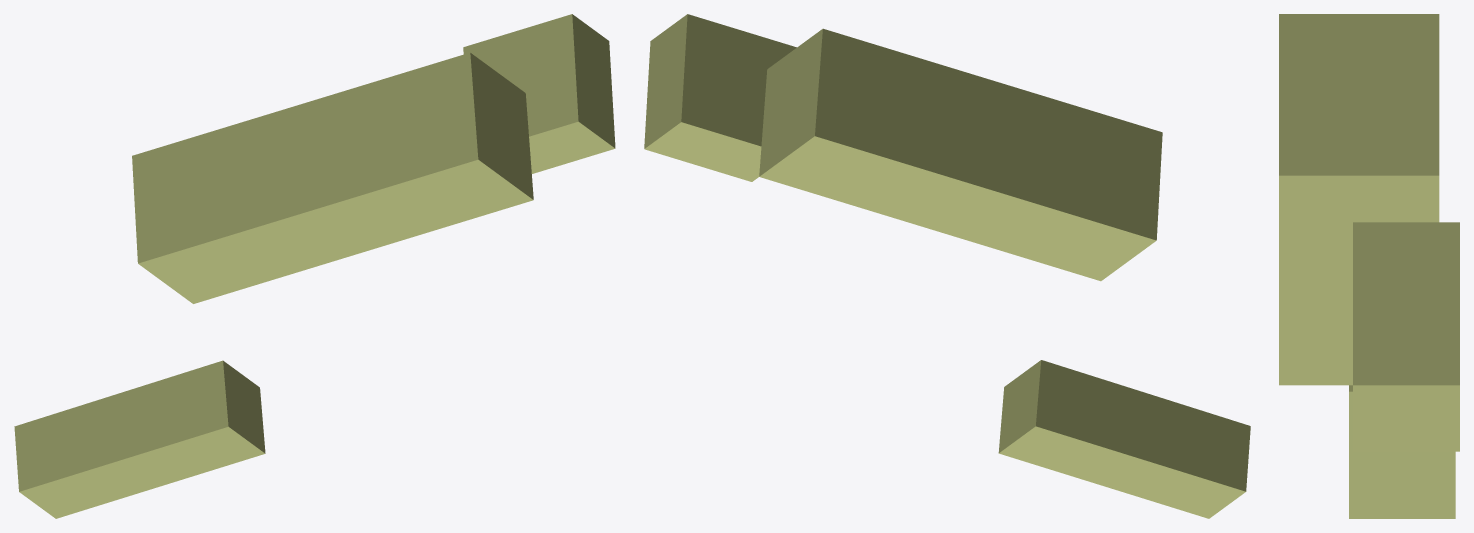
The picture shows the model from 3 angles, left to right: view 1: azimuth 30°, elevation 25°; view 2: azimuth 150°, elevation 25°; view 3: azimuth 270°, elevation 25°; orthographic projection. The views are drawn at different scales.
Parts seen in each view (by area): view 1: 0_1_2_0_0_2_3_2; view 2: 0_1_2_0_0_2_3_2; view 3: 0_1_2_0_0_2_3_2.
Part boxes in pixels (<box>): 0_1_2_0_0_2_3_2: <box>14,14,615,518</box>; 0_1_2_0_0_2_3_2: <box>644,14,1250,518</box>; 0_1_2_0_0_2_3_2: <box>1279,14,1459,518</box>.
Size of the model in its own units: 53 by 30.58 by 10.16.
